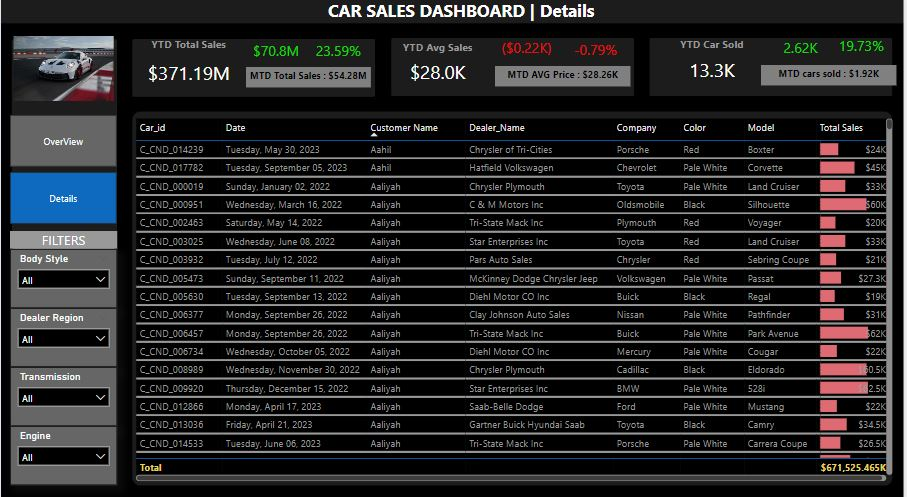

What the dashboard file says about the page in this screenshot:
{"tool":"powerbi","page":{"name":"Details","canvas":[1280,720],"ordinal":1},"visuals":[{"type":"card","title":"YTD Total Sales","fields":{"Values":["car_data.YTD Total sales"]},"box":[185.9,59,160.9,84],"z":0},{"type":"card","fields":{"Values":["Table.Sales Difference"]},"box":[345,59,91.2,42.9],"z":1000},{"type":"card","fields":{"Values":["Table.YOY Sales Growth"]},"box":[432.6,59,91.2,42.9],"z":2000},{"type":"card","fields":{"Values":["Table.MTD KPI"]},"box":[346.8,101.9,177,28.6],"z":3000},{"type":"card","title":"YTD Avg Sales","fields":{"Values":["Table.YTD AVG Price"]},"box":[538.1,64.4,160.9,73.3],"z":4000},{"type":"card","fields":{"Values":["Table.Avg Price Diff"]},"box":[699.9,59,89.4,32.3],"z":5000},{"type":"card","fields":{"Values":["Table.YOY AVG Price Growth"]},"box":[796.9,59,91.3,38],"z":6000},{"type":"card","fields":{"Values":["Table.MTD AVG Price KPI"]},"box":[699.9,100.8,192.1,28.5],"z":7000},{"type":"card","title":"YTD Car Sold","fields":{"Values":["Table.YTD cars Sold"]},"box":[926.2,59,161.7,74.2],"z":8000},{"type":"card","fields":{"Values":["Table.Car Sold Diff"]},"box":[1087.9,59,89.4,32.3],"z":9000},{"type":"card","fields":{"Values":["Table.YOY Car Sold Growth"]},"box":[1173.5,49.5,91.3,47.5],"z":10000},{"type":"card","fields":{"Values":["Table.MTD Cars Sold Kpi"]},"box":[1076.5,98.9,192.1,28.5],"z":11000},{"type":"textbox","box":[13.3,0,1255.3,49.5],"z":12000},{"type":"slicer","fields":{"Values":["car_data.Body Style"]},"box":[13.3,359.5,152.2,83.7],"z":13000},{"type":"slicer","fields":{"Values":["car_data.Dealer_Region"]},"box":[13.3,443.2,152.2,83.7],"z":14000},{"type":"slicer","fields":{"Values":["car_data.Transmission"]},"box":[13.3,526.8,152.2,83.7],"z":15000},{"type":"slicer","fields":{"Values":["car_data.Engine"]},"box":[13.3,610.5,152.2,83.7],"z":16000},{"type":"textbox","title":"FILTERS","box":[13.3,334.7,152.2,24.7],"z":17000},{"type":"tableEx","fields":{"Values":["car_data.Car_id","car_data.Date","car_data.Customer Name","car_data.Dealer_Name","car_data.Company","car_data.Color","car_data.Model","car_data.Price ($)"]},"box":[185.7,170.1,1082.8,524.4],"z":18000},{"type":"pageNavigator","box":[12.8,170.1,151.7,154.5],"z":18001},{"type":"image","box":[12.8,24.1,151.7,160.2],"z":18002}]}

Visuals, with their boxes in screenshot pixels (x1, y1, x2, y2), scaled from the page's 1280x720 canvas onto the 907x497 screenshot:
"YTD Total Sales" card: select_region(132, 41, 246, 99)
card - Table.Sales Difference: select_region(244, 41, 309, 70)
card - Table.YOY Sales Growth: select_region(307, 41, 371, 70)
card - Table.MTD KPI: select_region(246, 70, 371, 90)
"YTD Avg Sales" card: select_region(381, 44, 495, 95)
card - Table.Avg Price Diff: select_region(496, 41, 559, 63)
card - Table.YOY AVG Price Growth: select_region(565, 41, 629, 67)
card - Table.MTD AVG Price KPI: select_region(496, 70, 632, 89)
"YTD Car Sold" card: select_region(656, 41, 771, 92)
card - Table.Car Sold Diff: select_region(771, 41, 834, 63)
card - Table.YOY Car Sold Growth: select_region(832, 34, 896, 67)
card - Table.MTD Cars Sold Kpi: select_region(763, 68, 899, 88)
textbox: select_region(9, 0, 899, 34)
slicer - car_data.Body Style: select_region(9, 248, 117, 306)
slicer - car_data.Dealer_Region: select_region(9, 306, 117, 364)
slicer - car_data.Transmission: select_region(9, 364, 117, 421)
slicer - car_data.Engine: select_region(9, 421, 117, 479)
"FILTERS" textbox: select_region(9, 231, 117, 248)
tableEx - car_data.Car_id x car_data.Date: select_region(132, 117, 899, 479)
pageNavigator: select_region(9, 117, 117, 224)
image: select_region(9, 17, 117, 127)
